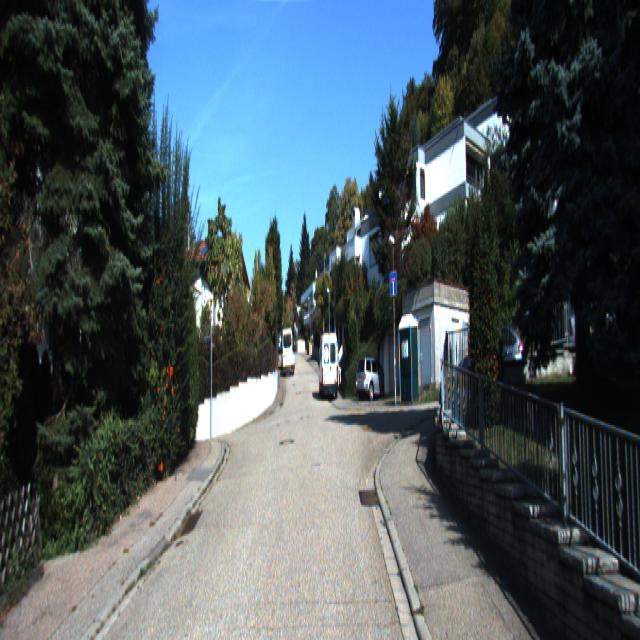Car: (354, 354, 392, 402), (318, 332, 341, 404), (282, 329, 293, 371), (282, 354, 296, 376)
